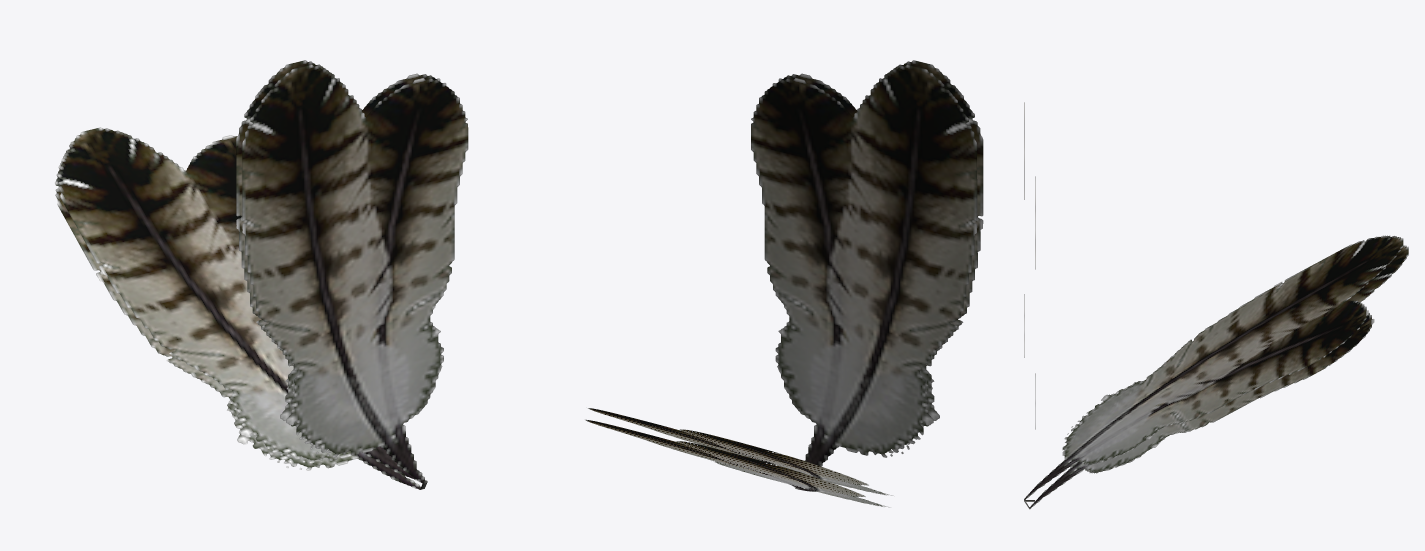
The model's file is helmet_mapu_plume.dae.
The picture shows the model from 3 angles, left to right: view 1: azimuth 30°, elevation 25°; view 2: azimuth 150°, elevation 25°; view 3: azimuth 270°, elevation 25°; orthographic projection. The views are drawn at different scales.
Parts seen in each view (by area): view 1: helmet_plume; view 2: helmet_plume; view 3: helmet_plume.
Boxes of the visible parts, bbox=[...] form: helmet_plume: bbox=[55, 60, 468, 489]; helmet_plume: bbox=[585, 60, 983, 507]; helmet_plume: bbox=[1024, 102, 1408, 509].
Bounding box in the file's own units: 0.249 × 0.358 × 0.4178.
